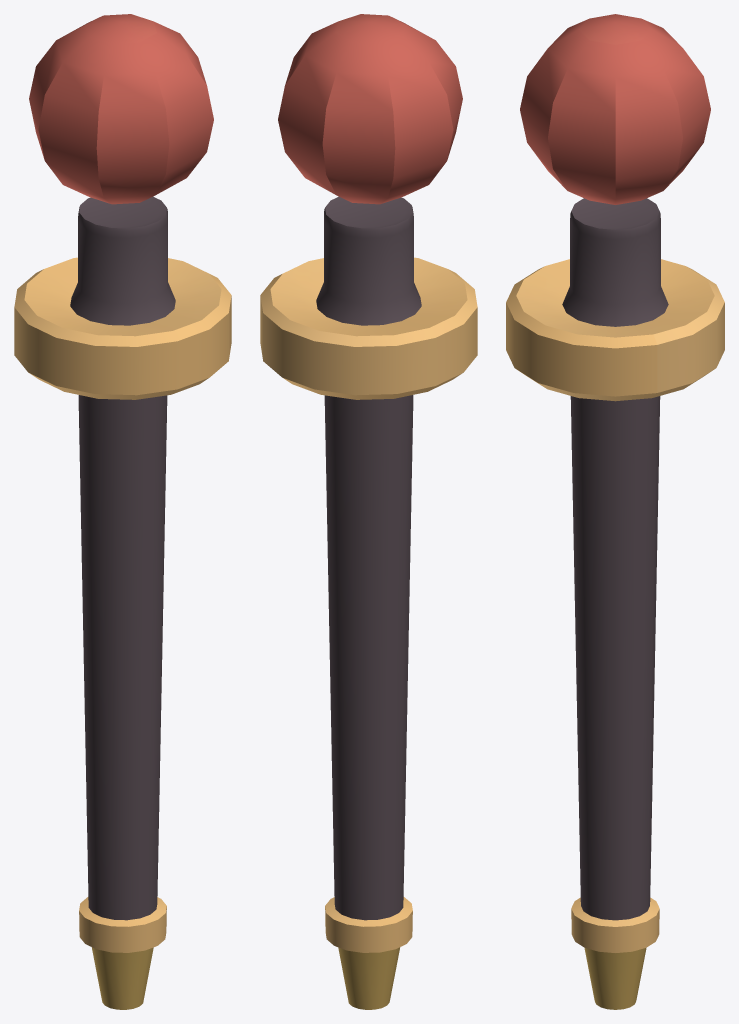
Rendered from staff.fbx.
3 views of the same model, side by side, from view 1: azimuth 30°, elevation 25°; view 2: azimuth 150°, elevation 25°; view 3: azimuth 270°, elevation 25° (orthographic).
Parts seen in each view (by area): view 1: Magical_staff; view 2: Magical_staff; view 3: Magical_staff.
Part boxes in pixels (x1,y1,x2,y2): Magical_staff: (14, 14, 231, 1009); Magical_staff: (260, 14, 477, 1009); Magical_staff: (506, 14, 724, 1009).
Size of the model in its own units: 50.83 by 251 by 50.83.
